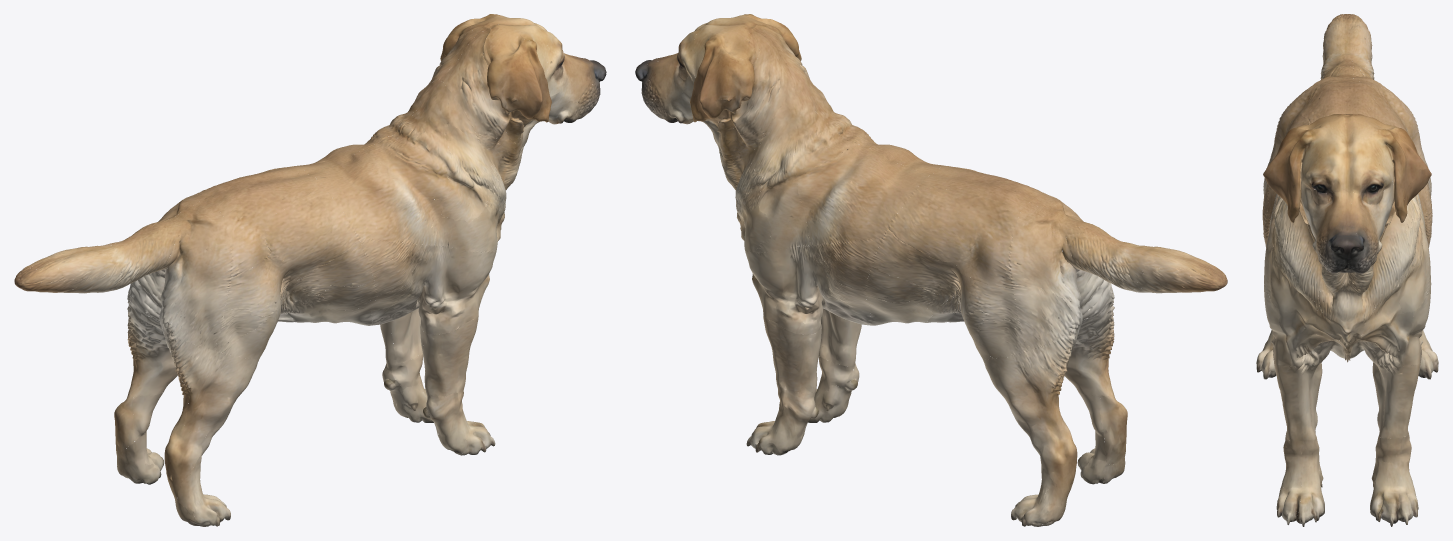
File: tripo_dec150k.glb
3 renders of one model, left to right at view 1: azimuth 30°, elevation 25°; view 2: azimuth 150°, elevation 25°; view 3: azimuth 270°, elevation 25°, orthographic. The views are drawn at different scales.
Visible parts, largest first — view 1: tripo_node_29b68ff5-f88e-4de6-ad81-c5c2bffbbe17; view 2: tripo_node_29b68ff5-f88e-4de6-ad81-c5c2bffbbe17; view 3: tripo_node_29b68ff5-f88e-4de6-ad81-c5c2bffbbe17.
Boxes of the visible parts, bbox=[...] form: tripo_node_29b68ff5-f88e-4de6-ad81-c5c2bffbbe17: bbox=[14, 14, 606, 526]; tripo_node_29b68ff5-f88e-4de6-ad81-c5c2bffbbe17: bbox=[635, 14, 1227, 526]; tripo_node_29b68ff5-f88e-4de6-ad81-c5c2bffbbe17: bbox=[1256, 14, 1438, 526].
Bounding box in the file's own units: 0.9802 × 0.6327 × 0.2459.
1 material, 1 textured.
